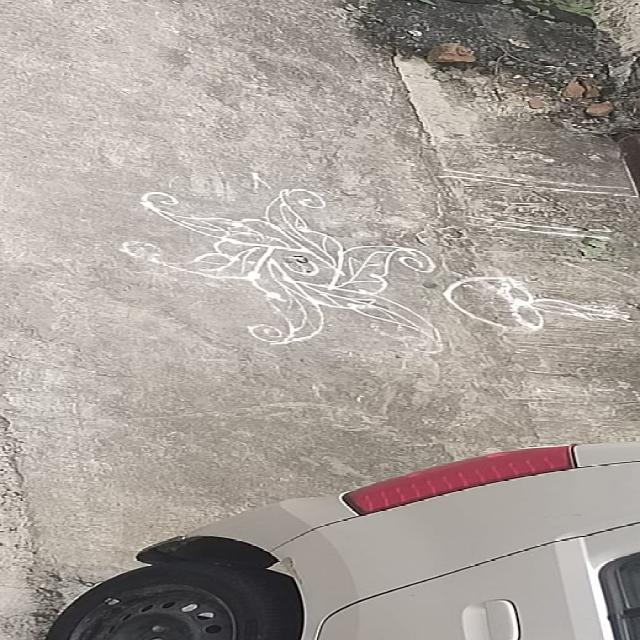rangoli: (69, 170, 632, 374)
